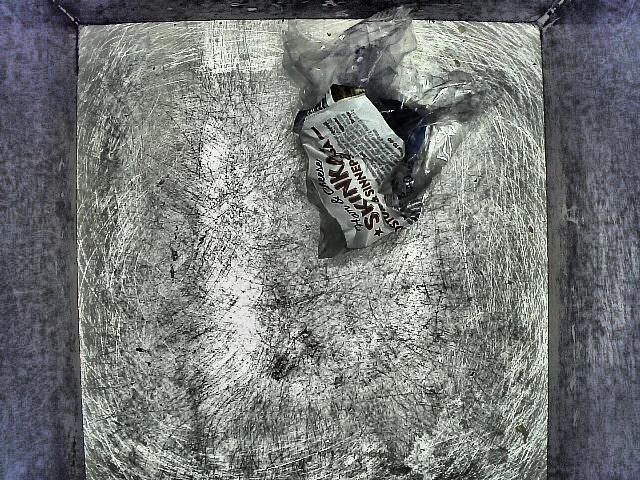Plastic: (271, 9, 474, 265)
